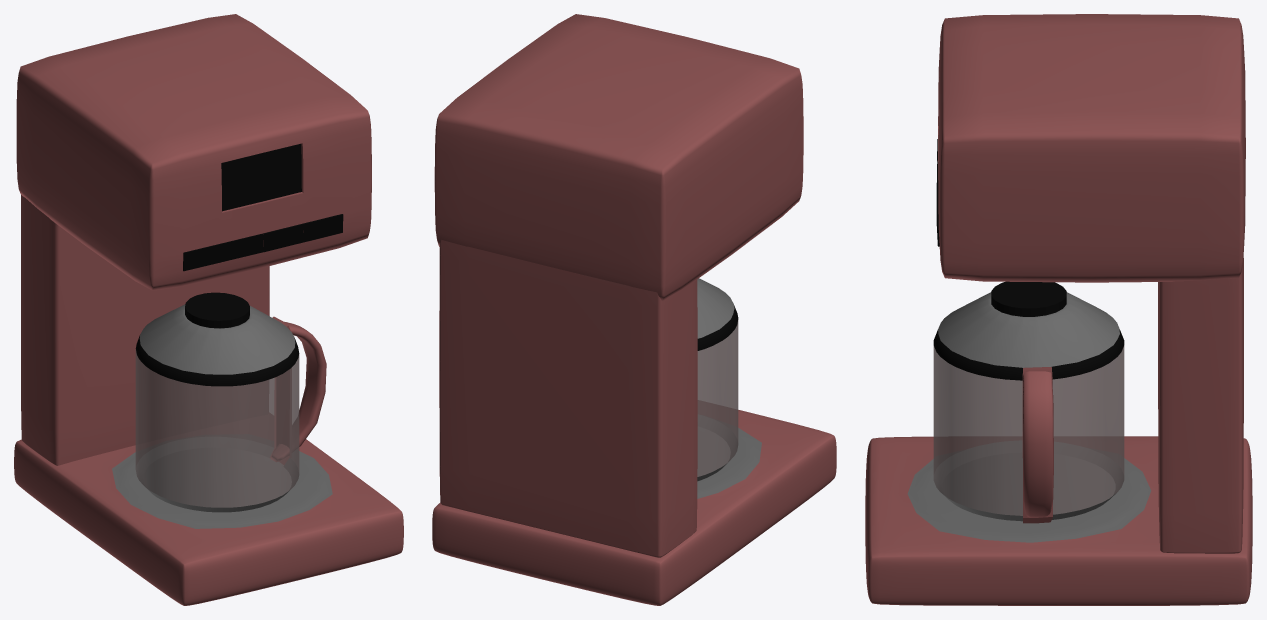
Rendered from coffee maker and pot done.fbx.
The picture shows the model from 3 angles, left to right: view 1: azimuth 30°, elevation 25°; view 2: azimuth 150°, elevation 25°; view 3: azimuth 270°, elevation 25°; orthographic projection. The views are drawn at different scales.
Parts seen in each view (by area): view 1: pCube97; view 2: pCube97; view 3: pCube97.
Boxes of the visible parts, x1,y1,x2,y2 form: pCube97: (14,14,403,605); pCube97: (432,14,836,605); pCube97: (865,14,1252,605).
Bounding box in the file's own units: 0.574 × 1.05 × 0.7651.
